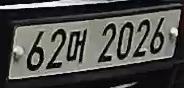0: (117, 20, 135, 60)
2: (96, 21, 117, 64), (45, 28, 66, 70), (134, 19, 151, 57)
6: (26, 30, 45, 72), (150, 16, 167, 55)
머: (67, 26, 88, 67)
